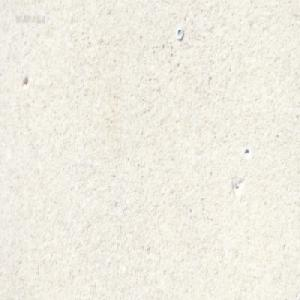Washer: (176, 26, 183, 41)
